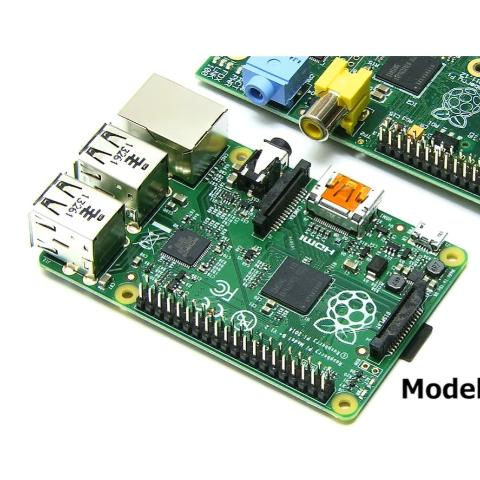Raspberry-Pi-1-Model-B-: (23, 67, 471, 425)
